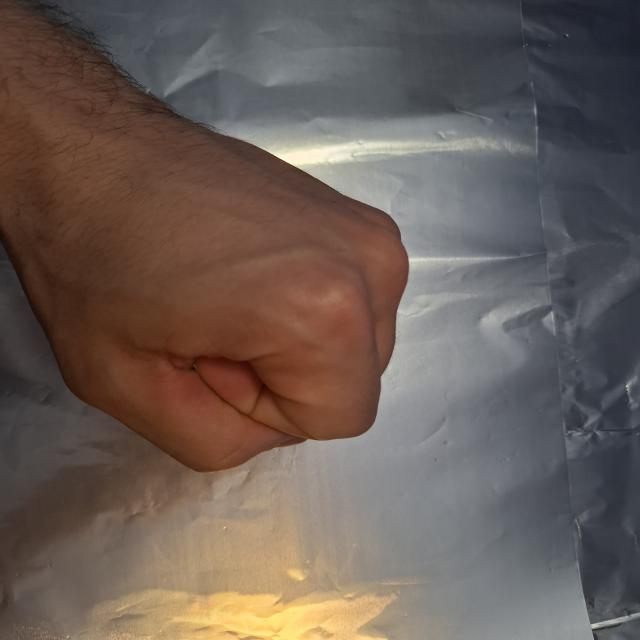glove_off: (0, 96, 415, 476)
